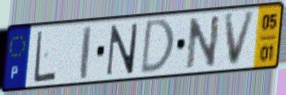D: (138, 17, 176, 77)
I: (79, 24, 93, 82)
L: (33, 28, 58, 85)
N: (185, 13, 223, 72), (104, 21, 141, 78)
V: (223, 9, 259, 69)
